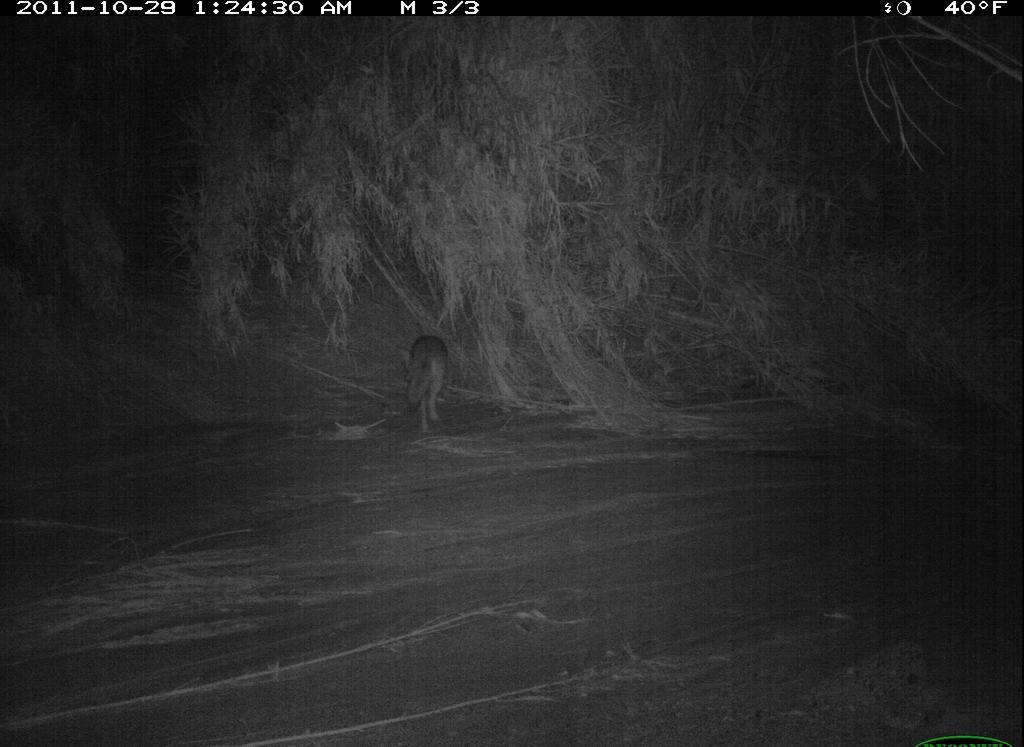coyote: (395, 325, 460, 443)
